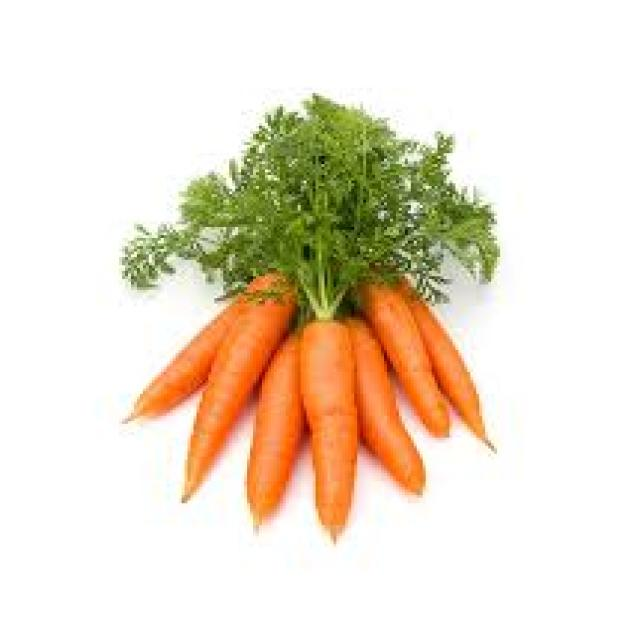Carrot: (164, 274, 294, 495), (105, 278, 280, 428), (331, 317, 436, 508), (386, 269, 498, 430), (303, 326, 377, 544), (233, 330, 316, 521), (371, 297, 462, 449)
